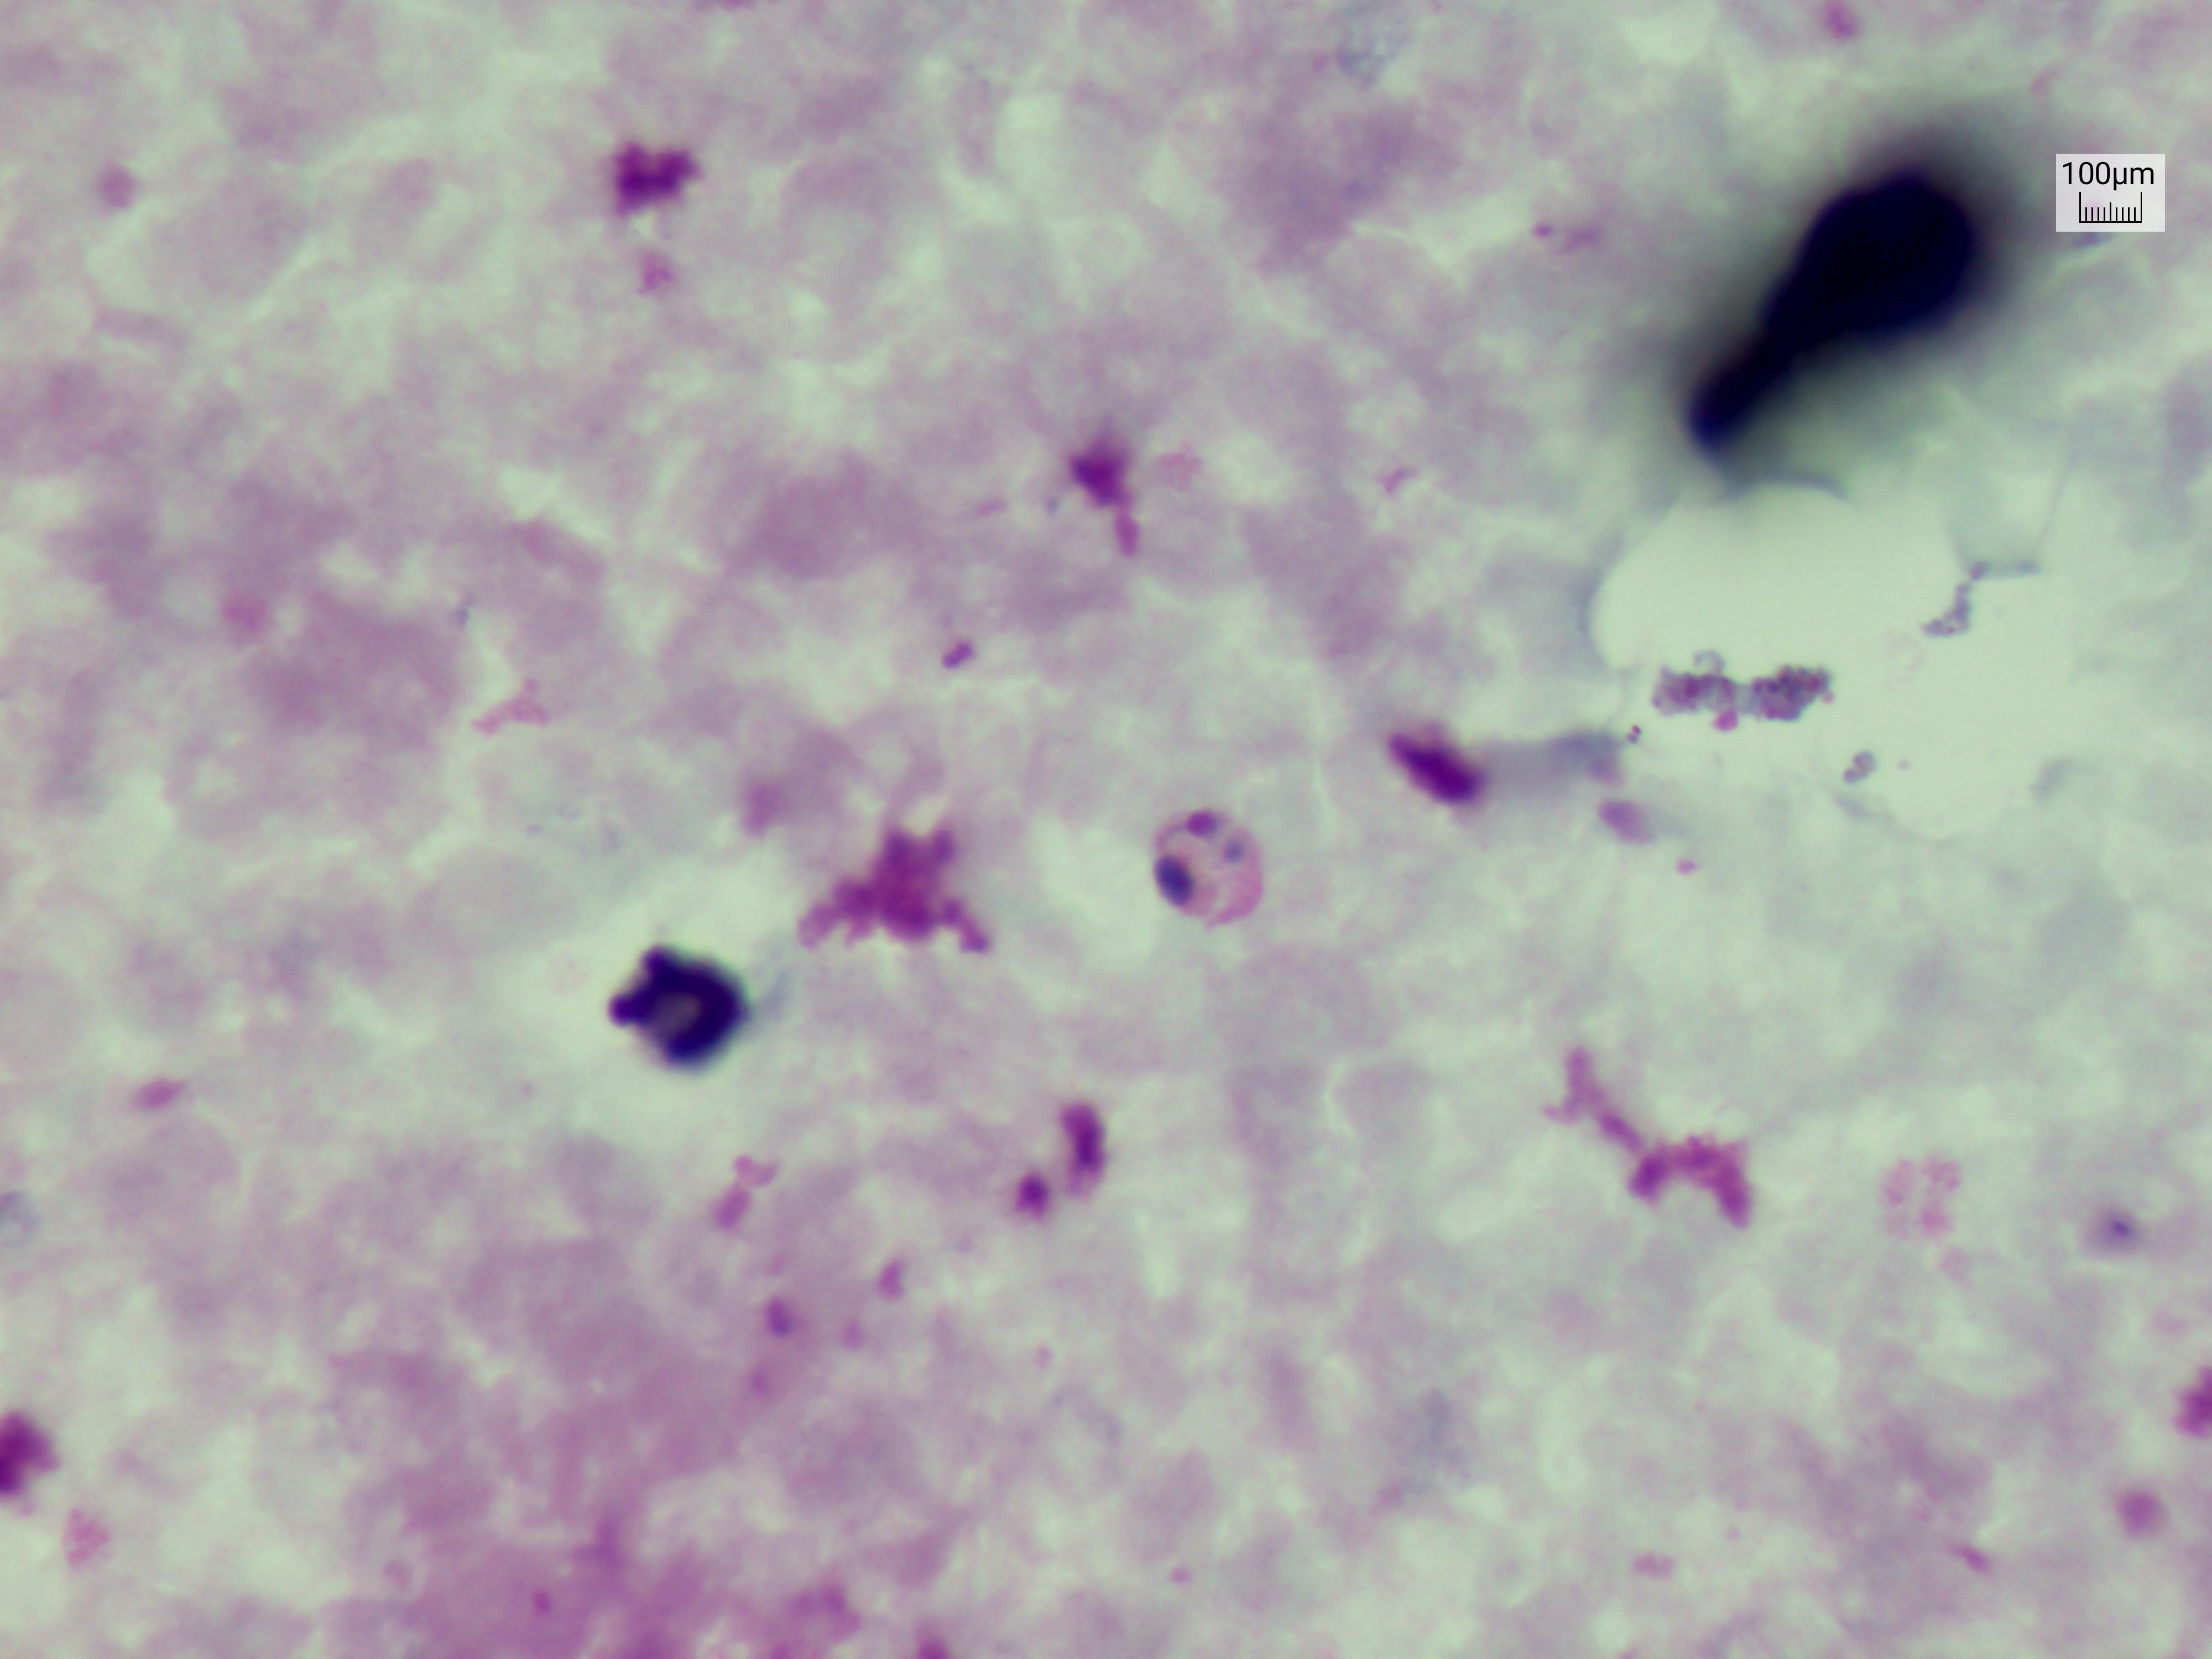p.vivax: (1153, 789, 1277, 938), (1651, 659, 1832, 734), (761, 1290, 817, 1406), (1515, 206, 1597, 270)
